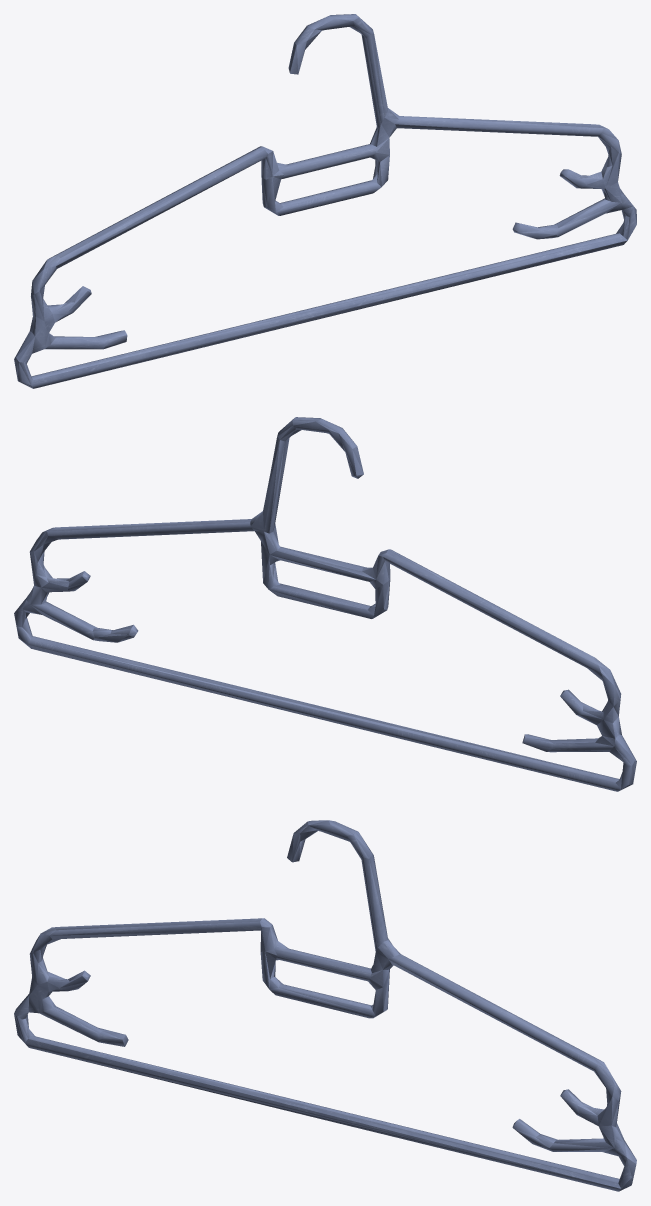
Rendered from ASSET_hanger.glb.
3 renders of one model, top to bottom at view 1: azimuth 30°, elevation 25°; view 2: azimuth 150°, elevation 25°; view 3: azimuth 330°, elevation 25°, orthographic.
Parts seen in each view (by area): view 1: ASSET_hanger; view 2: ASSET_hanger; view 3: ASSET_hanger.
Boxes of the visible parts, bbox=[...] form: ASSET_hanger: bbox=[14, 14, 636, 388]; ASSET_hanger: bbox=[14, 417, 636, 791]; ASSET_hanger: bbox=[14, 820, 636, 1191].
Size of the model in its own units: 0.412 by 0.1904 by 0.00828.
1 material, 1 textured.
